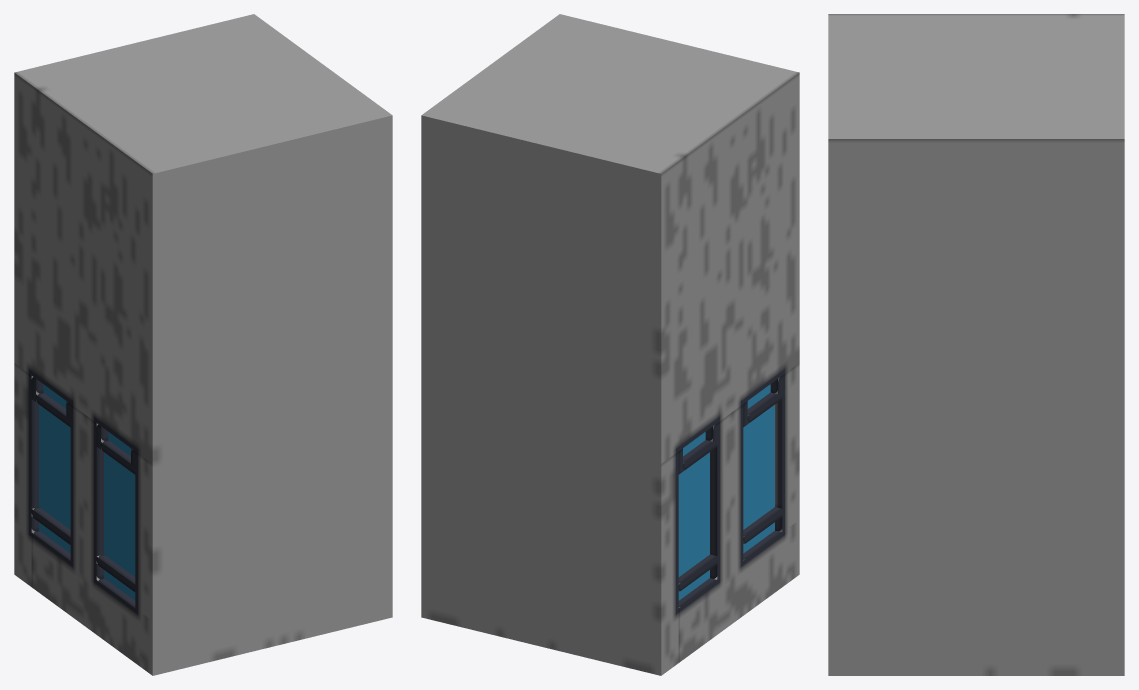
Rendered from okna_front_góra_bez.dae.
3 views of the same model, side by side, from view 1: azimuth 30°, elevation 25°; view 2: azimuth 150°, elevation 25°; view 3: azimuth 270°, elevation 25° (orthographic). The views are drawn at different scales.
Visible parts, largest first — view 1: Content; view 2: Content; view 3: Content.
Boxes of the visible parts, x1,y1,x2,y2 form: Content: (14, 14, 392, 675); Content: (421, 14, 799, 675); Content: (828, 14, 1124, 675).
Size of the model in its own units: 32 by 64 by 32.
1 material, 1 textured.
